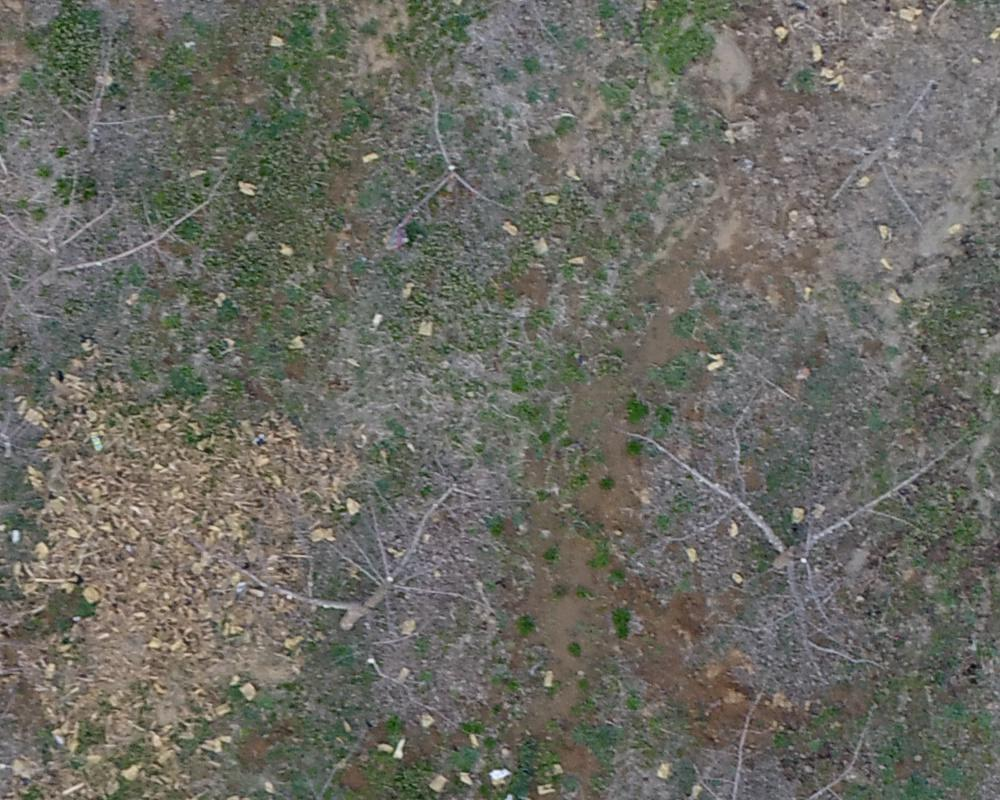apple: (602, 374, 976, 692), (185, 469, 496, 681), (10, 118, 217, 345), (367, 62, 579, 236)
